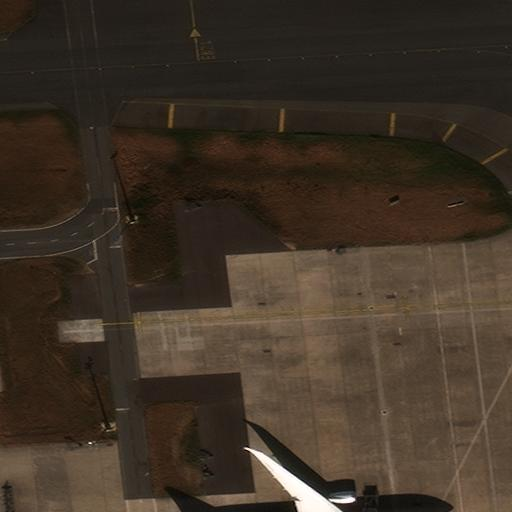Large Civil Transport: (204, 452, 429, 511)
